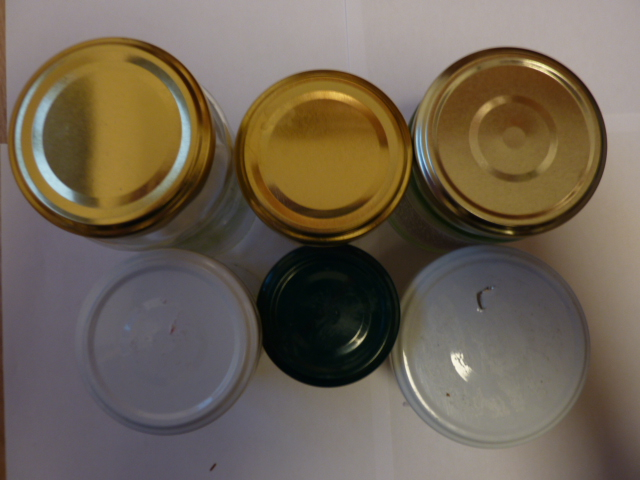intact: (11, 34, 215, 237), (415, 45, 606, 237), (77, 251, 256, 431), (234, 69, 413, 239), (259, 243, 403, 389)
